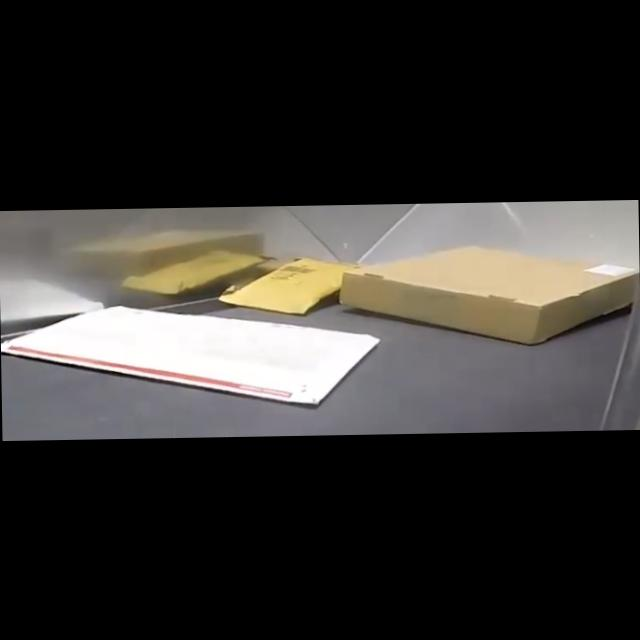mailer: (0, 298, 383, 413), (337, 241, 640, 335), (220, 258, 362, 313)
